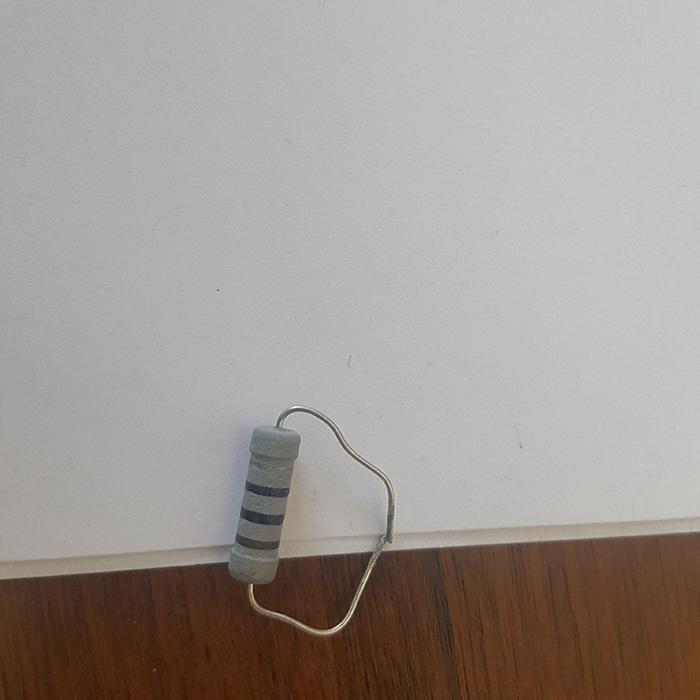resistor: (226, 423, 301, 584)
